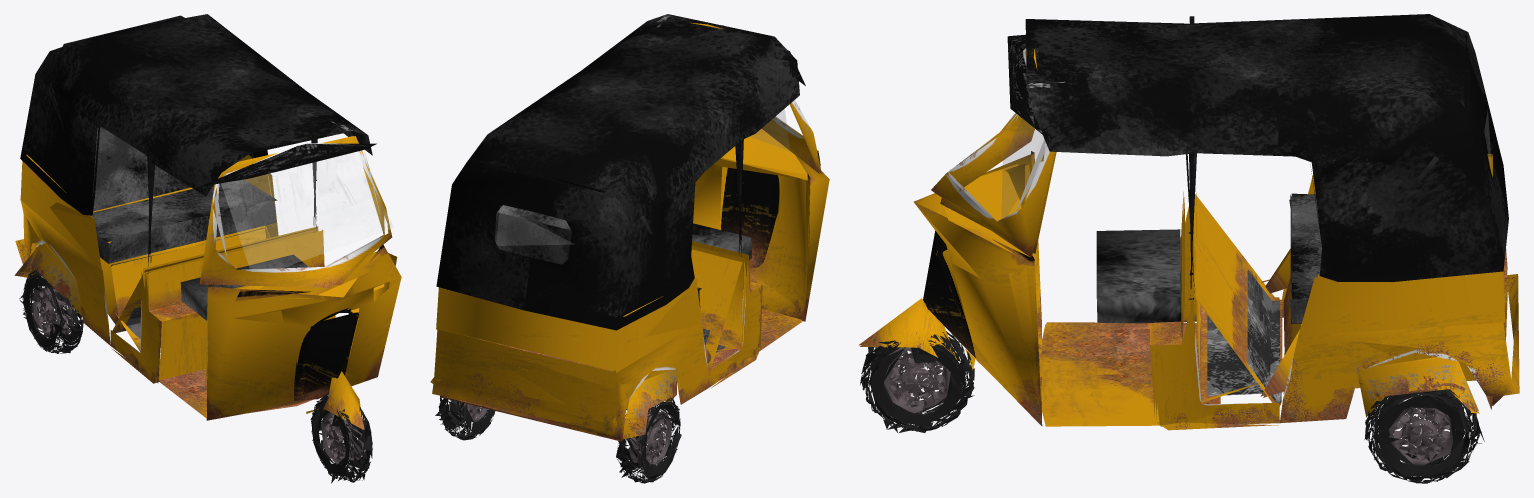
The model's file is tuk_tuk_lod.glb.
3 renders of one model, left to right at view 1: azimuth 30°, elevation 25°; view 2: azimuth 150°, elevation 25°; view 3: azimuth 270°, elevation 25°, orthographic. The views are drawn at different scales.
Visible parts, largest first — view 1: Plane.001_Body_01_0, Plane.002_Top_0, Plane.003_Glass_0, Rin_Llanta_0, Rin.001_Llanta_0, Rin.001_Metal Rin_0, Rin_Metal Rin_0; view 2: Plane.002_Top_0, Plane.001_Body_01_0, Rin.001_Llanta_0, Plane.003_Glass_0, Rin.001_Metal Rin_0; view 3: Plane.002_Top_0, Plane.001_Body_01_0, Rin.001_Llanta_0, Rin_Llanta_0, Rin_Metal Rin_0, Rin.001_Metal Rin_0, Plane.003_Glass_0.
Boxes of the visible parts, x1,y1,x2,y2 form: Plane.001_Body_01_0: (14,136,401,429); Plane.002_Top_0: (20,14,372,320); Plane.003_Glass_0: (221,152,393,268); Rin_Llanta_0: (310,392,372,483); Rin.001_Llanta_0: (19,268,83,353); Rin.001_Metal Rin_0: (32,284,74,338); Rin_Metal Rin_0: (321,412,363,464); Plane.002_Top_0: (436,14,799,330); Plane.001_Body_01_0: (430,22,829,441); Rin.001_Llanta_0: (435,396,681,483); Plane.003_Glass_0: (496,109,789,245); Rin.001_Metal Rin_0: (450,400,671,464); Plane.002_Top_0: (1025,14,1508,323); Plane.001_Body_01_0: (859,34,1519,430); Rin.001_Llanta_0: (1364,389,1484,483); Rin_Llanta_0: (860,331,974,432); Rin_Metal Rin_0: (884,347,950,412); Rin.001_Metal Rin_0: (1388,398,1455,465); Plane.003_Glass_0: (1001,112,1491,224).
Size of the model in its own units: 1.46 by 2.07 by 3.22.
Materials: 5 (3 with a texture image).
